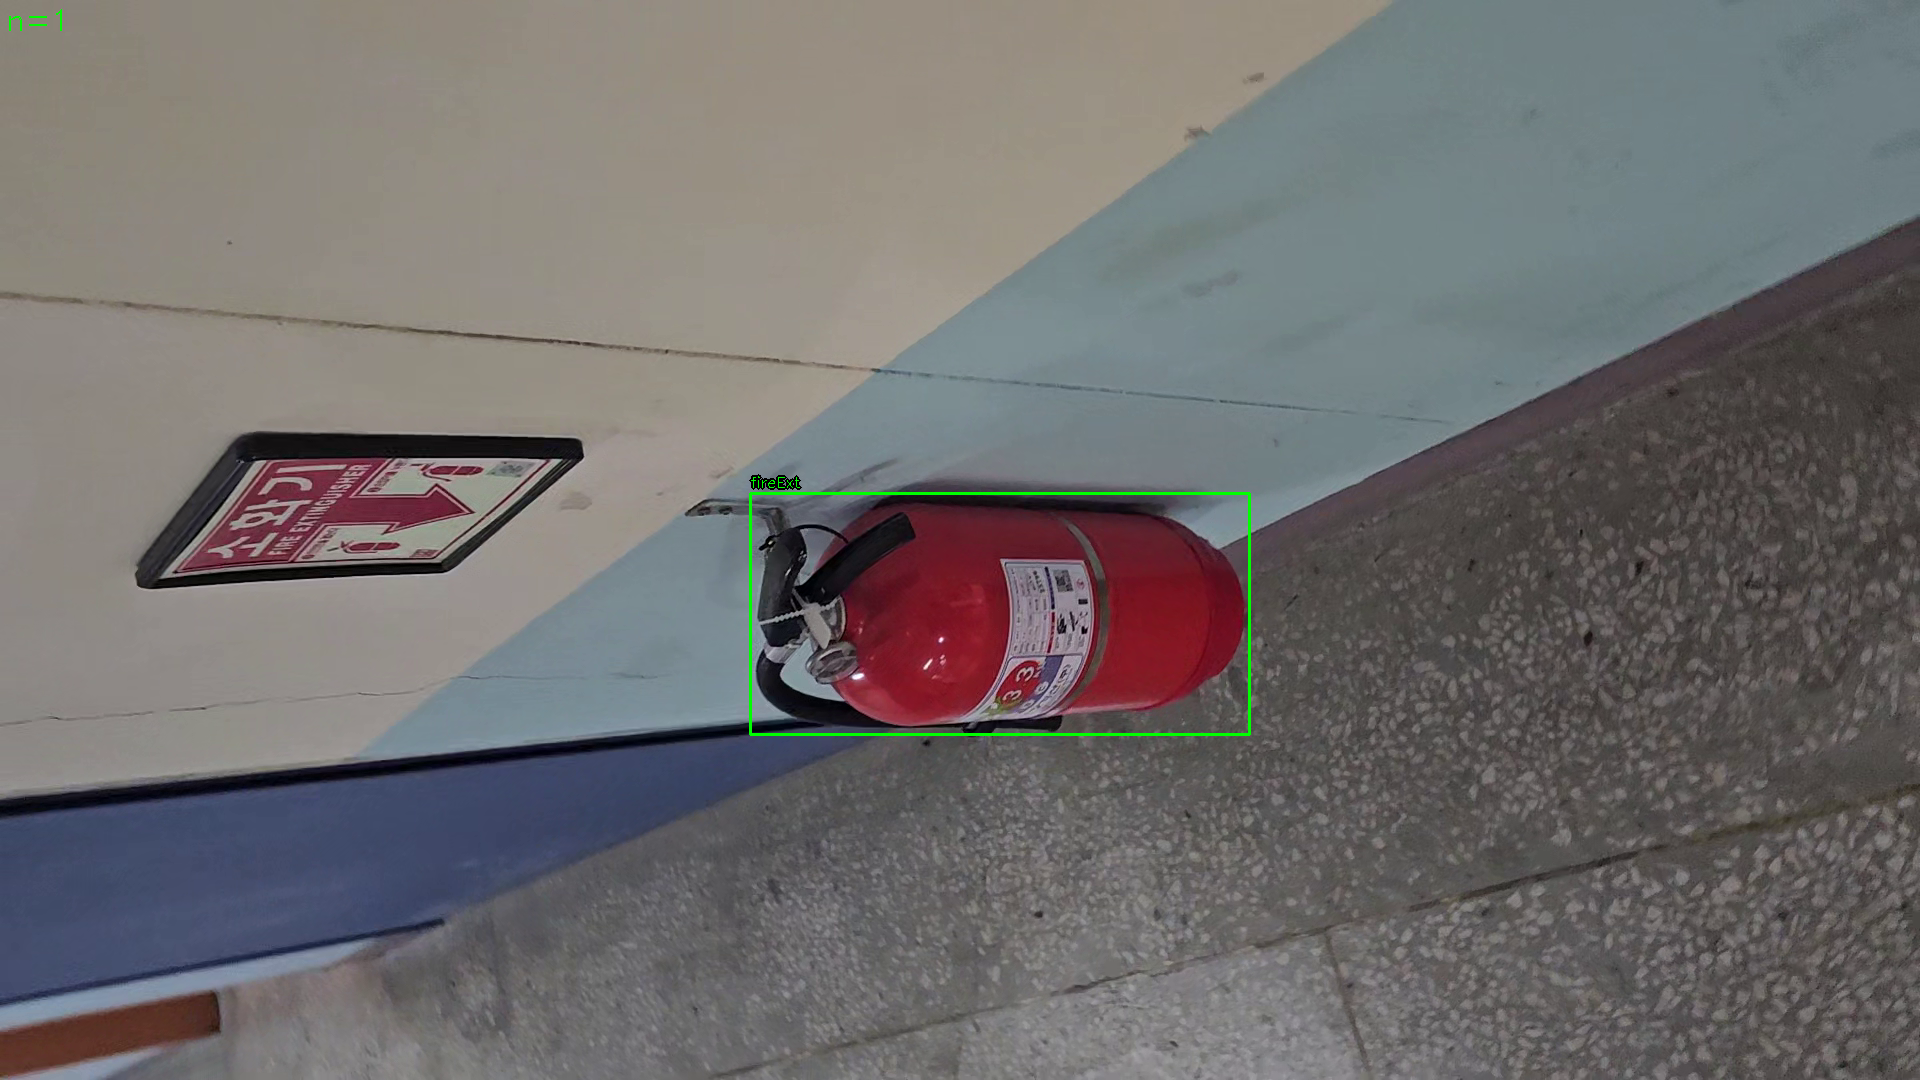lane: (750, 493, 1250, 735)
